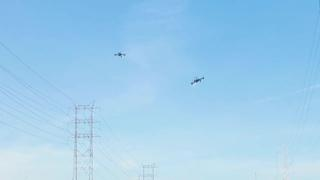UAV: (190, 75, 205, 86), (114, 52, 127, 58)
